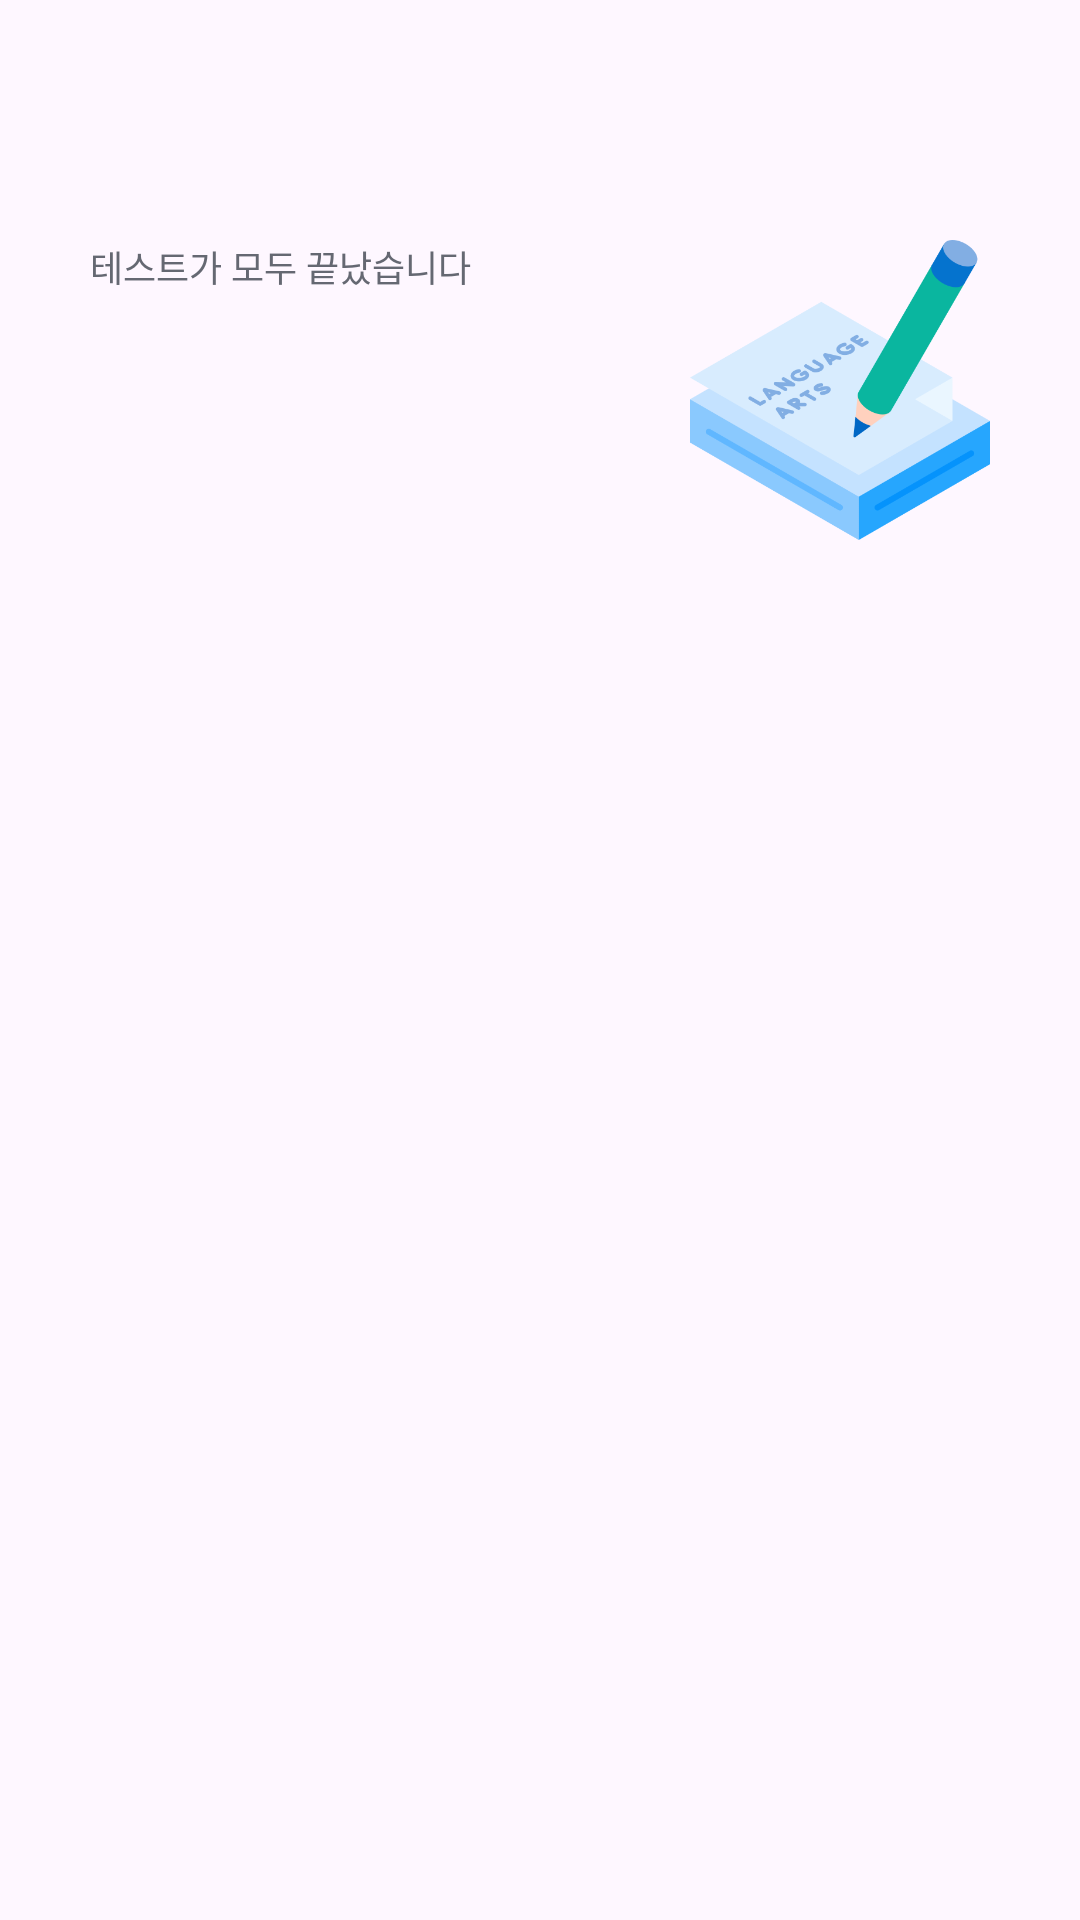

Named icons in this screenshot (1080 × 1920) and their bounding boxes, (x1, y1, x2, y2):
quiznote: (690, 240, 990, 540)
